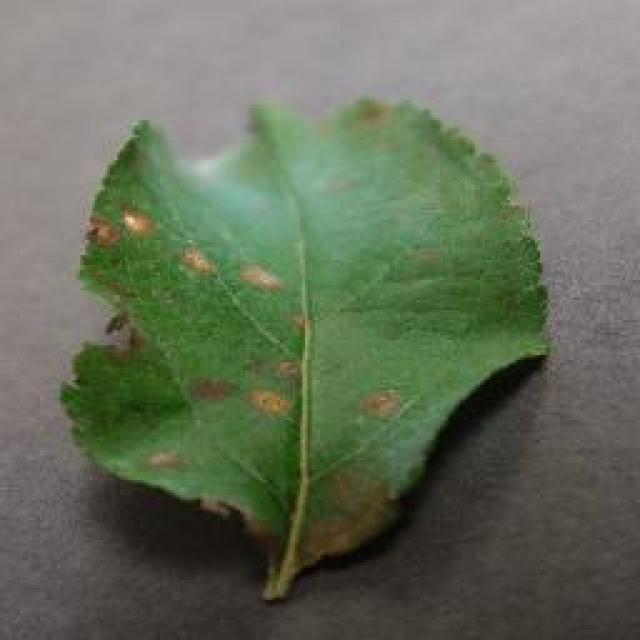apple healthy: (58, 90, 552, 600)
